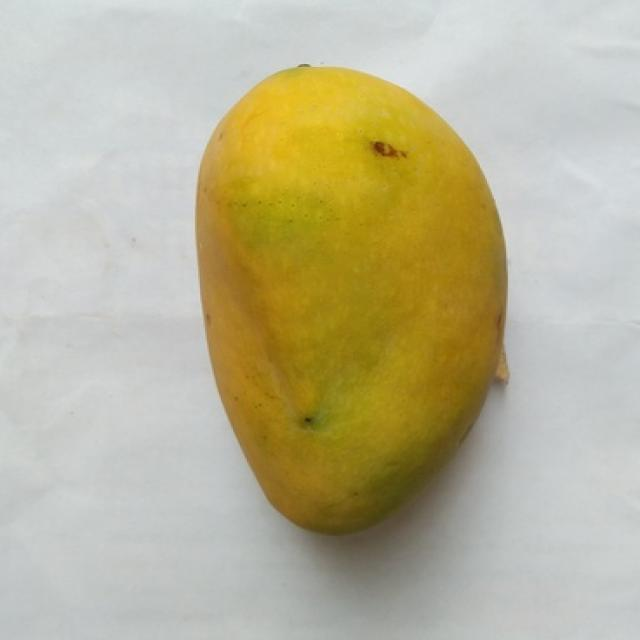Mango: (198, 68, 506, 530)
